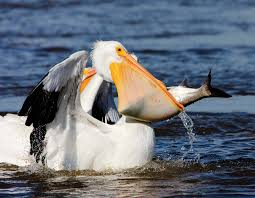pelican: (1, 40, 232, 173)
